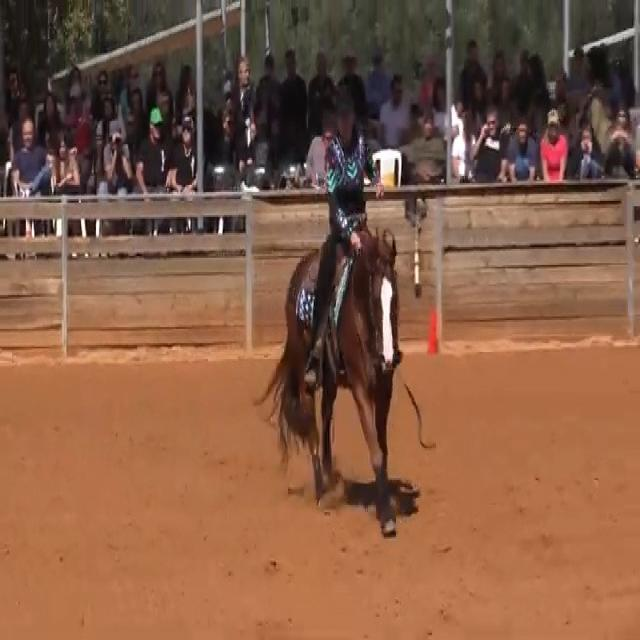horse: (258, 224, 411, 535)
